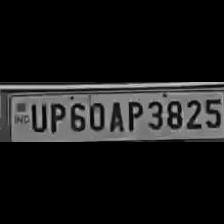0: (86, 98, 106, 132)
2: (183, 96, 201, 130)
3: (144, 97, 162, 131)
5: (202, 96, 222, 128)
6: (65, 100, 84, 132)
8: (164, 96, 182, 130)
A: (106, 98, 124, 132)
P: (46, 100, 66, 134), (122, 98, 142, 132)
U: (28, 101, 46, 133)
